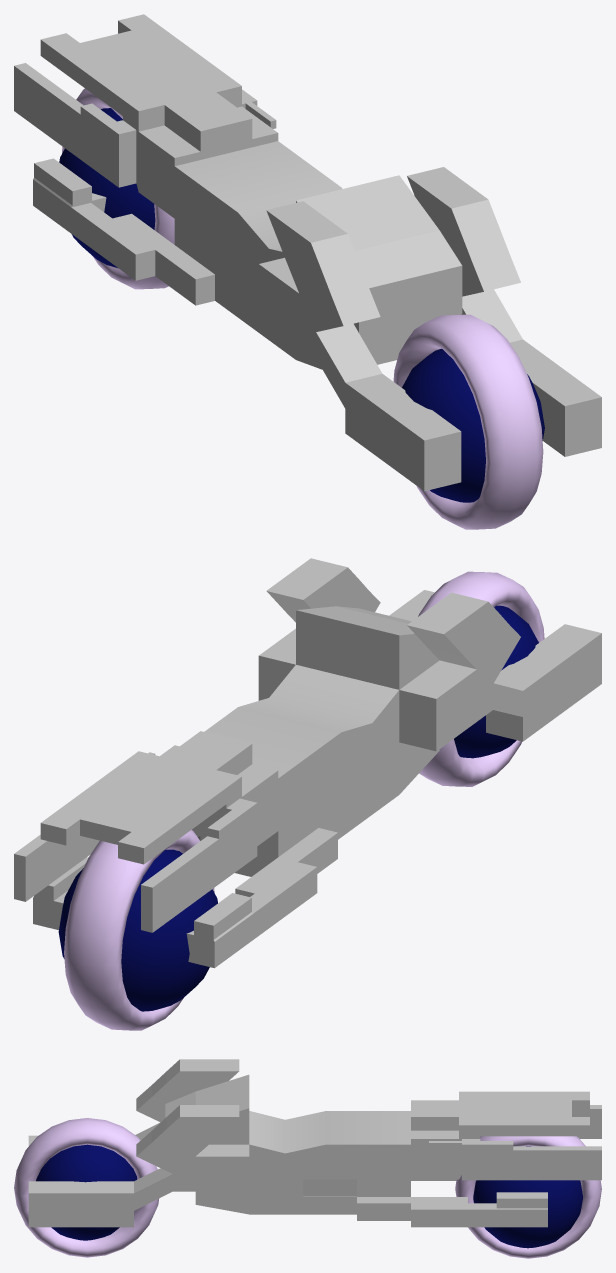
The model's file is Bike2.FBX.
3 views of the same model, one above another, from view 1: azimuth 30°, elevation 25°; view 2: azimuth 150°, elevation 25°; view 3: azimuth 270°, elevation 25° (orthographic). The views are drawn at different scales.
Visible parts, largest first — view 1: Box006, Torus001, Sphere002, Sphere001, Torus002; view 2: Box006, Torus002, Sphere001, Torus001, Sphere002; view 3: Box006, Torus001, Sphere001, Torus002, Sphere002.
Boxes of the visible parts, x1=… form: Box006: x1=14, y1=14, x2=601, y2=491; Torus001: x1=393, y1=314, x2=543, y2=529; Sphere002: x1=402, y1=348, x2=544, y2=502; Sphere001: x1=59, y1=108, x2=155, y2=267; Torus002: x1=62, y1=88, x2=174, y2=289; Box006: x1=14, y1=558, x2=601, y2=968; Torus002: x1=64, y1=830, x2=214, y2=1030; Sphere001: x1=58, y1=849, x2=217, y2=1011; Torus001: x1=418, y1=571, x2=544, y2=786; Sphere002: x1=454, y1=605, x2=538, y2=758; Box006: x1=28, y1=1059, x2=601, y2=1227; Torus001: x1=14, y1=1118, x2=159, y2=1257; Sphere001: x1=473, y1=1146, x2=582, y2=1248; Torus002: x1=455, y1=1136, x2=601, y2=1258; Sphere002: x1=36, y1=1144, x2=137, y2=1240.
Bounding box in the file's own units: 34 × 143 × 44.98.
